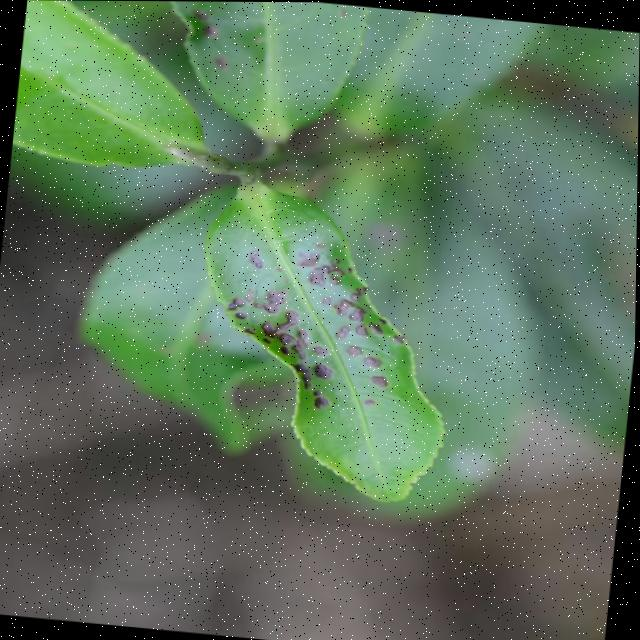Tea red scab: (229, 210, 403, 399)
